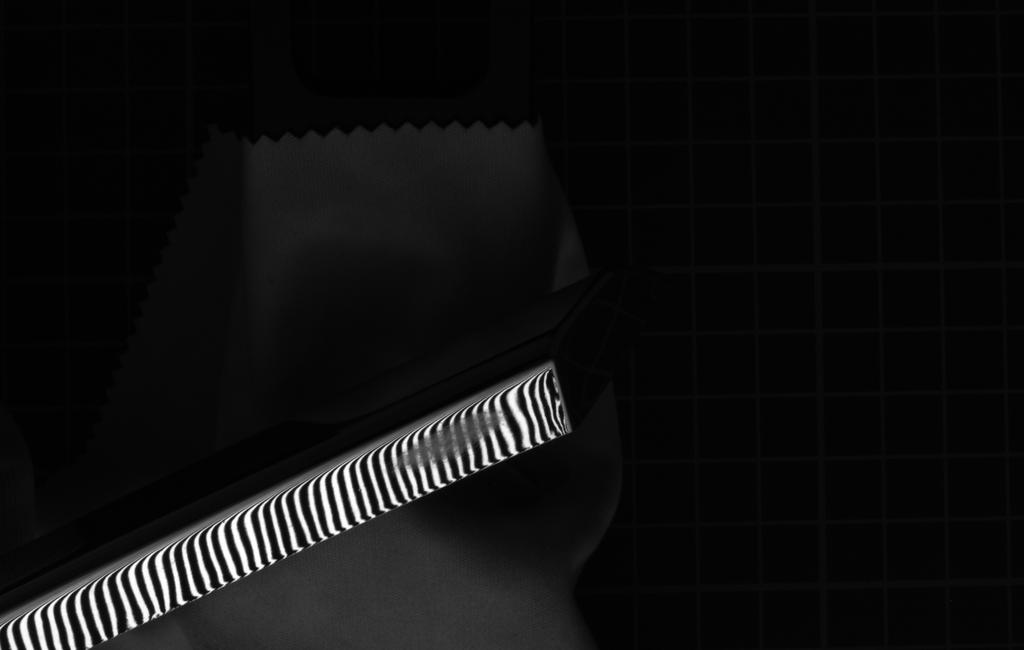Pitting: (381, 399, 512, 481)
